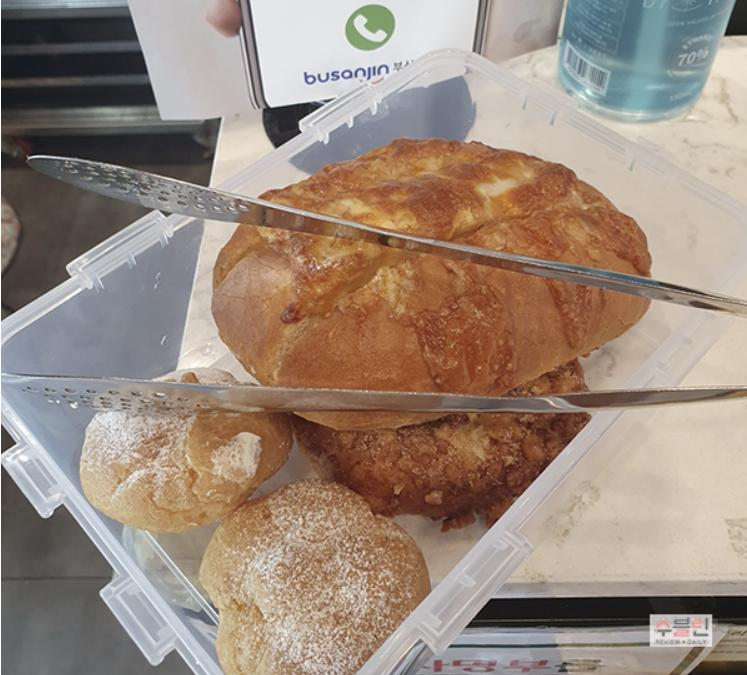Lunch Box: (0, 383, 653, 674)
